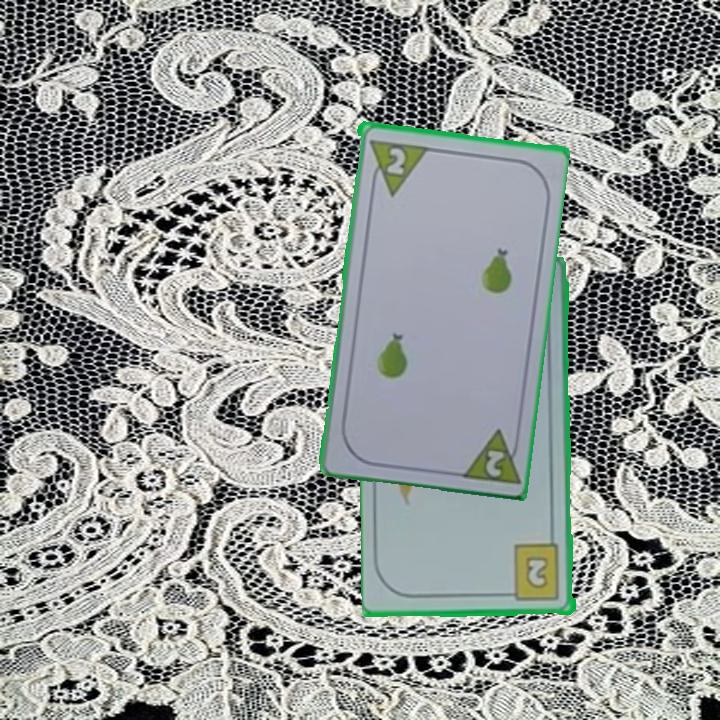2b: (502, 542, 563, 603)
2p: (381, 143, 409, 177), (481, 445, 507, 480)
